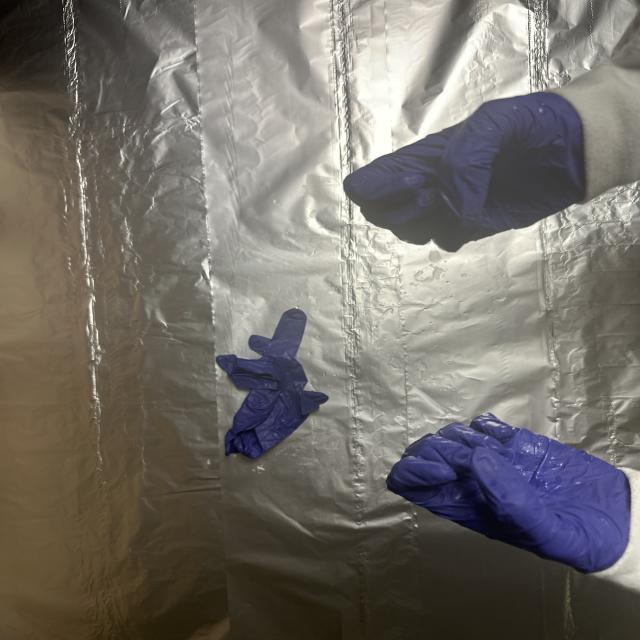gloves_contaminated: (387, 413, 632, 573), (344, 93, 586, 251)
